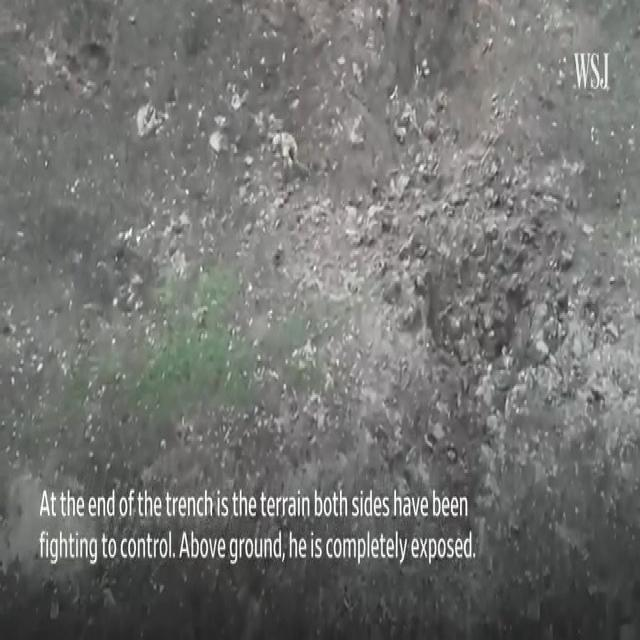MIL_Pax: (272, 131, 298, 159)
